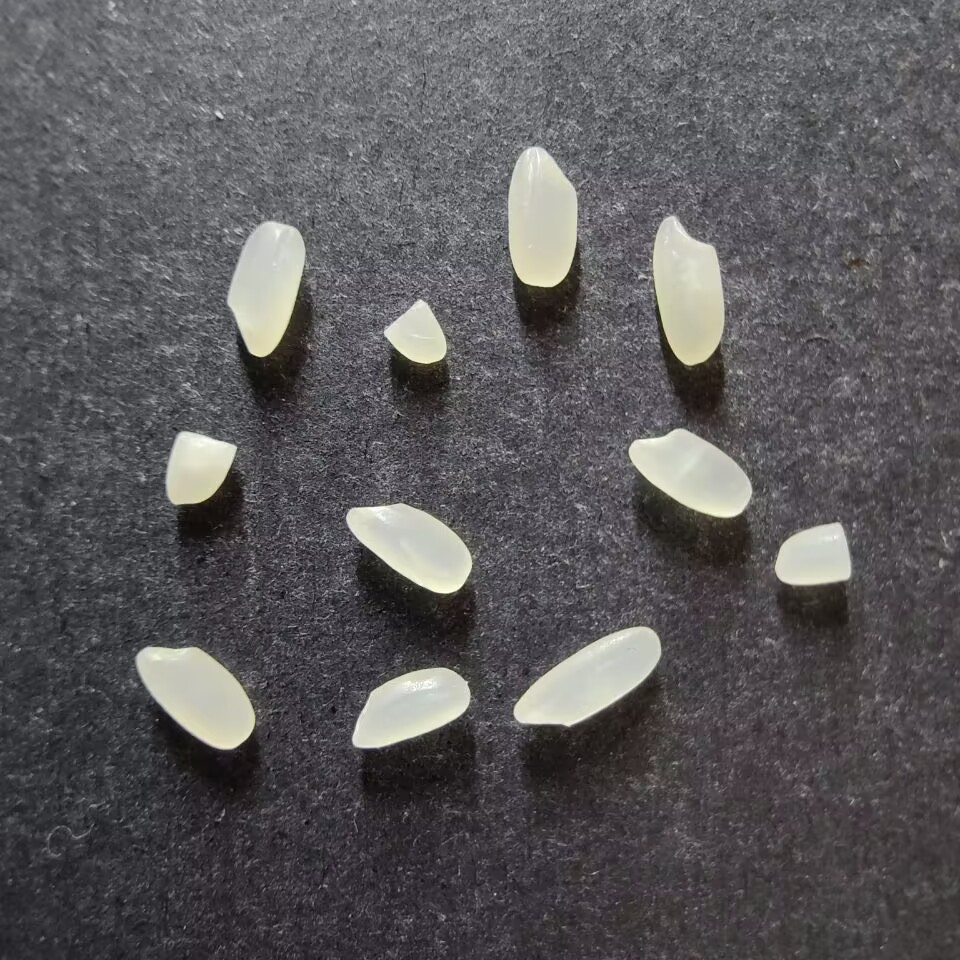broken: (165, 431, 236, 506), (774, 523, 851, 585), (383, 300, 447, 364)
rice: (512, 626, 661, 726), (134, 645, 255, 750), (345, 503, 472, 594), (628, 427, 752, 518), (226, 221, 305, 357), (652, 216, 724, 365), (506, 147, 578, 288), (351, 666, 470, 749)
